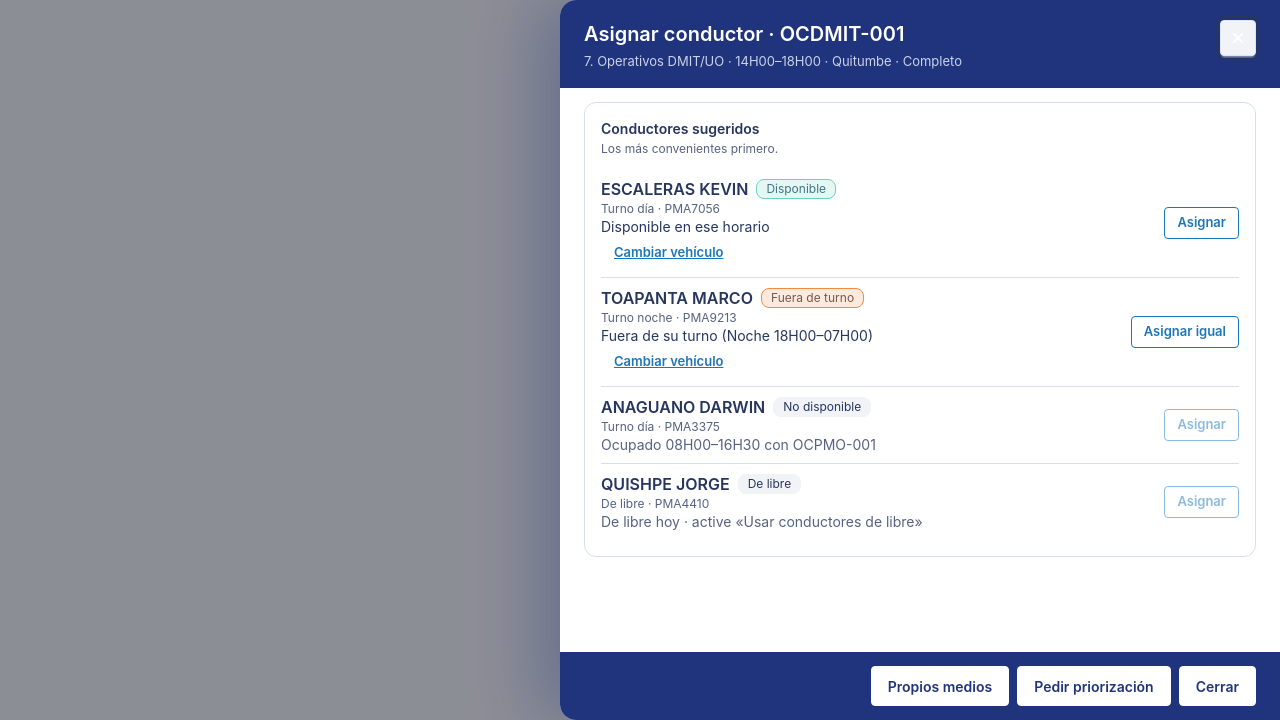
Scenario: Cajón «Asignar / Cambiar conductor» › «Cambiar vehículo» pide las placas SOLO de ese candidato y el desplegable arranca en la propuesta
Click the button with aria-label "Cambiar vehículo de ESCALERAS KEVIN" at (669, 252), box [601,236,736,268]
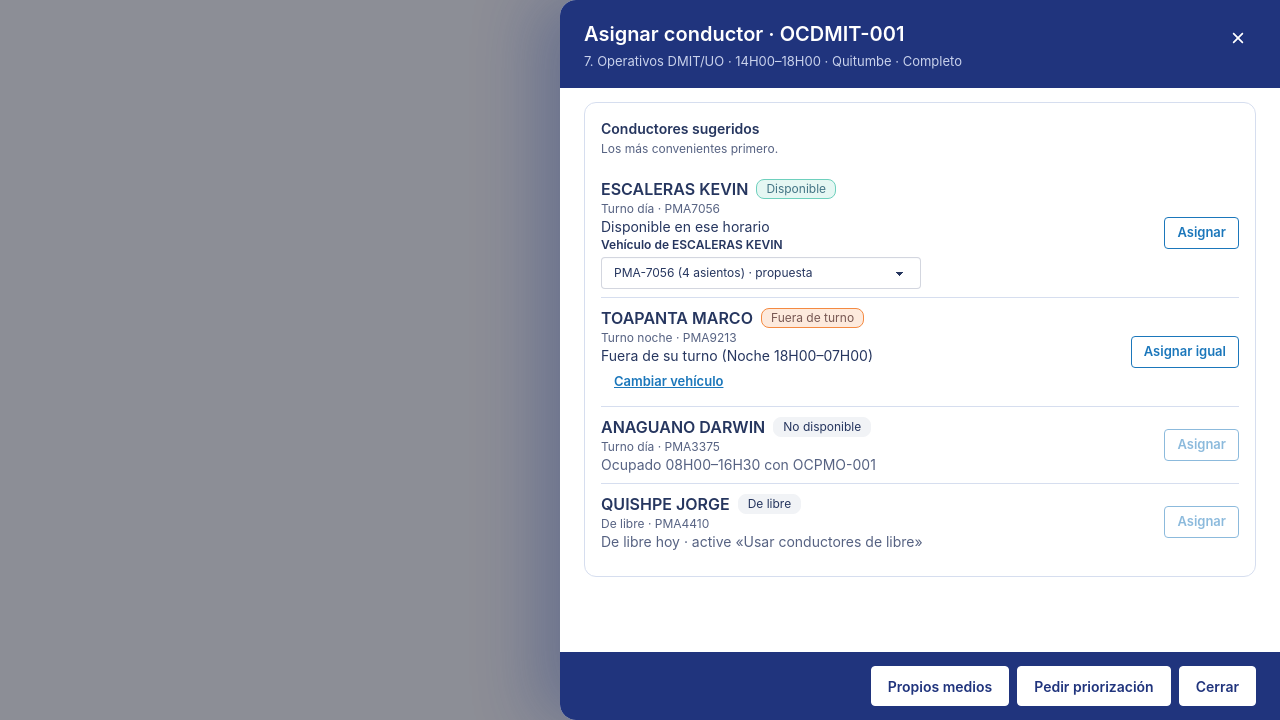
Expected: the dropdown labelled "Vehículo de ESCALERAS KEVIN" shows "PMA-7056 (4 asientos) · propuesta", [601,256,921,288]
